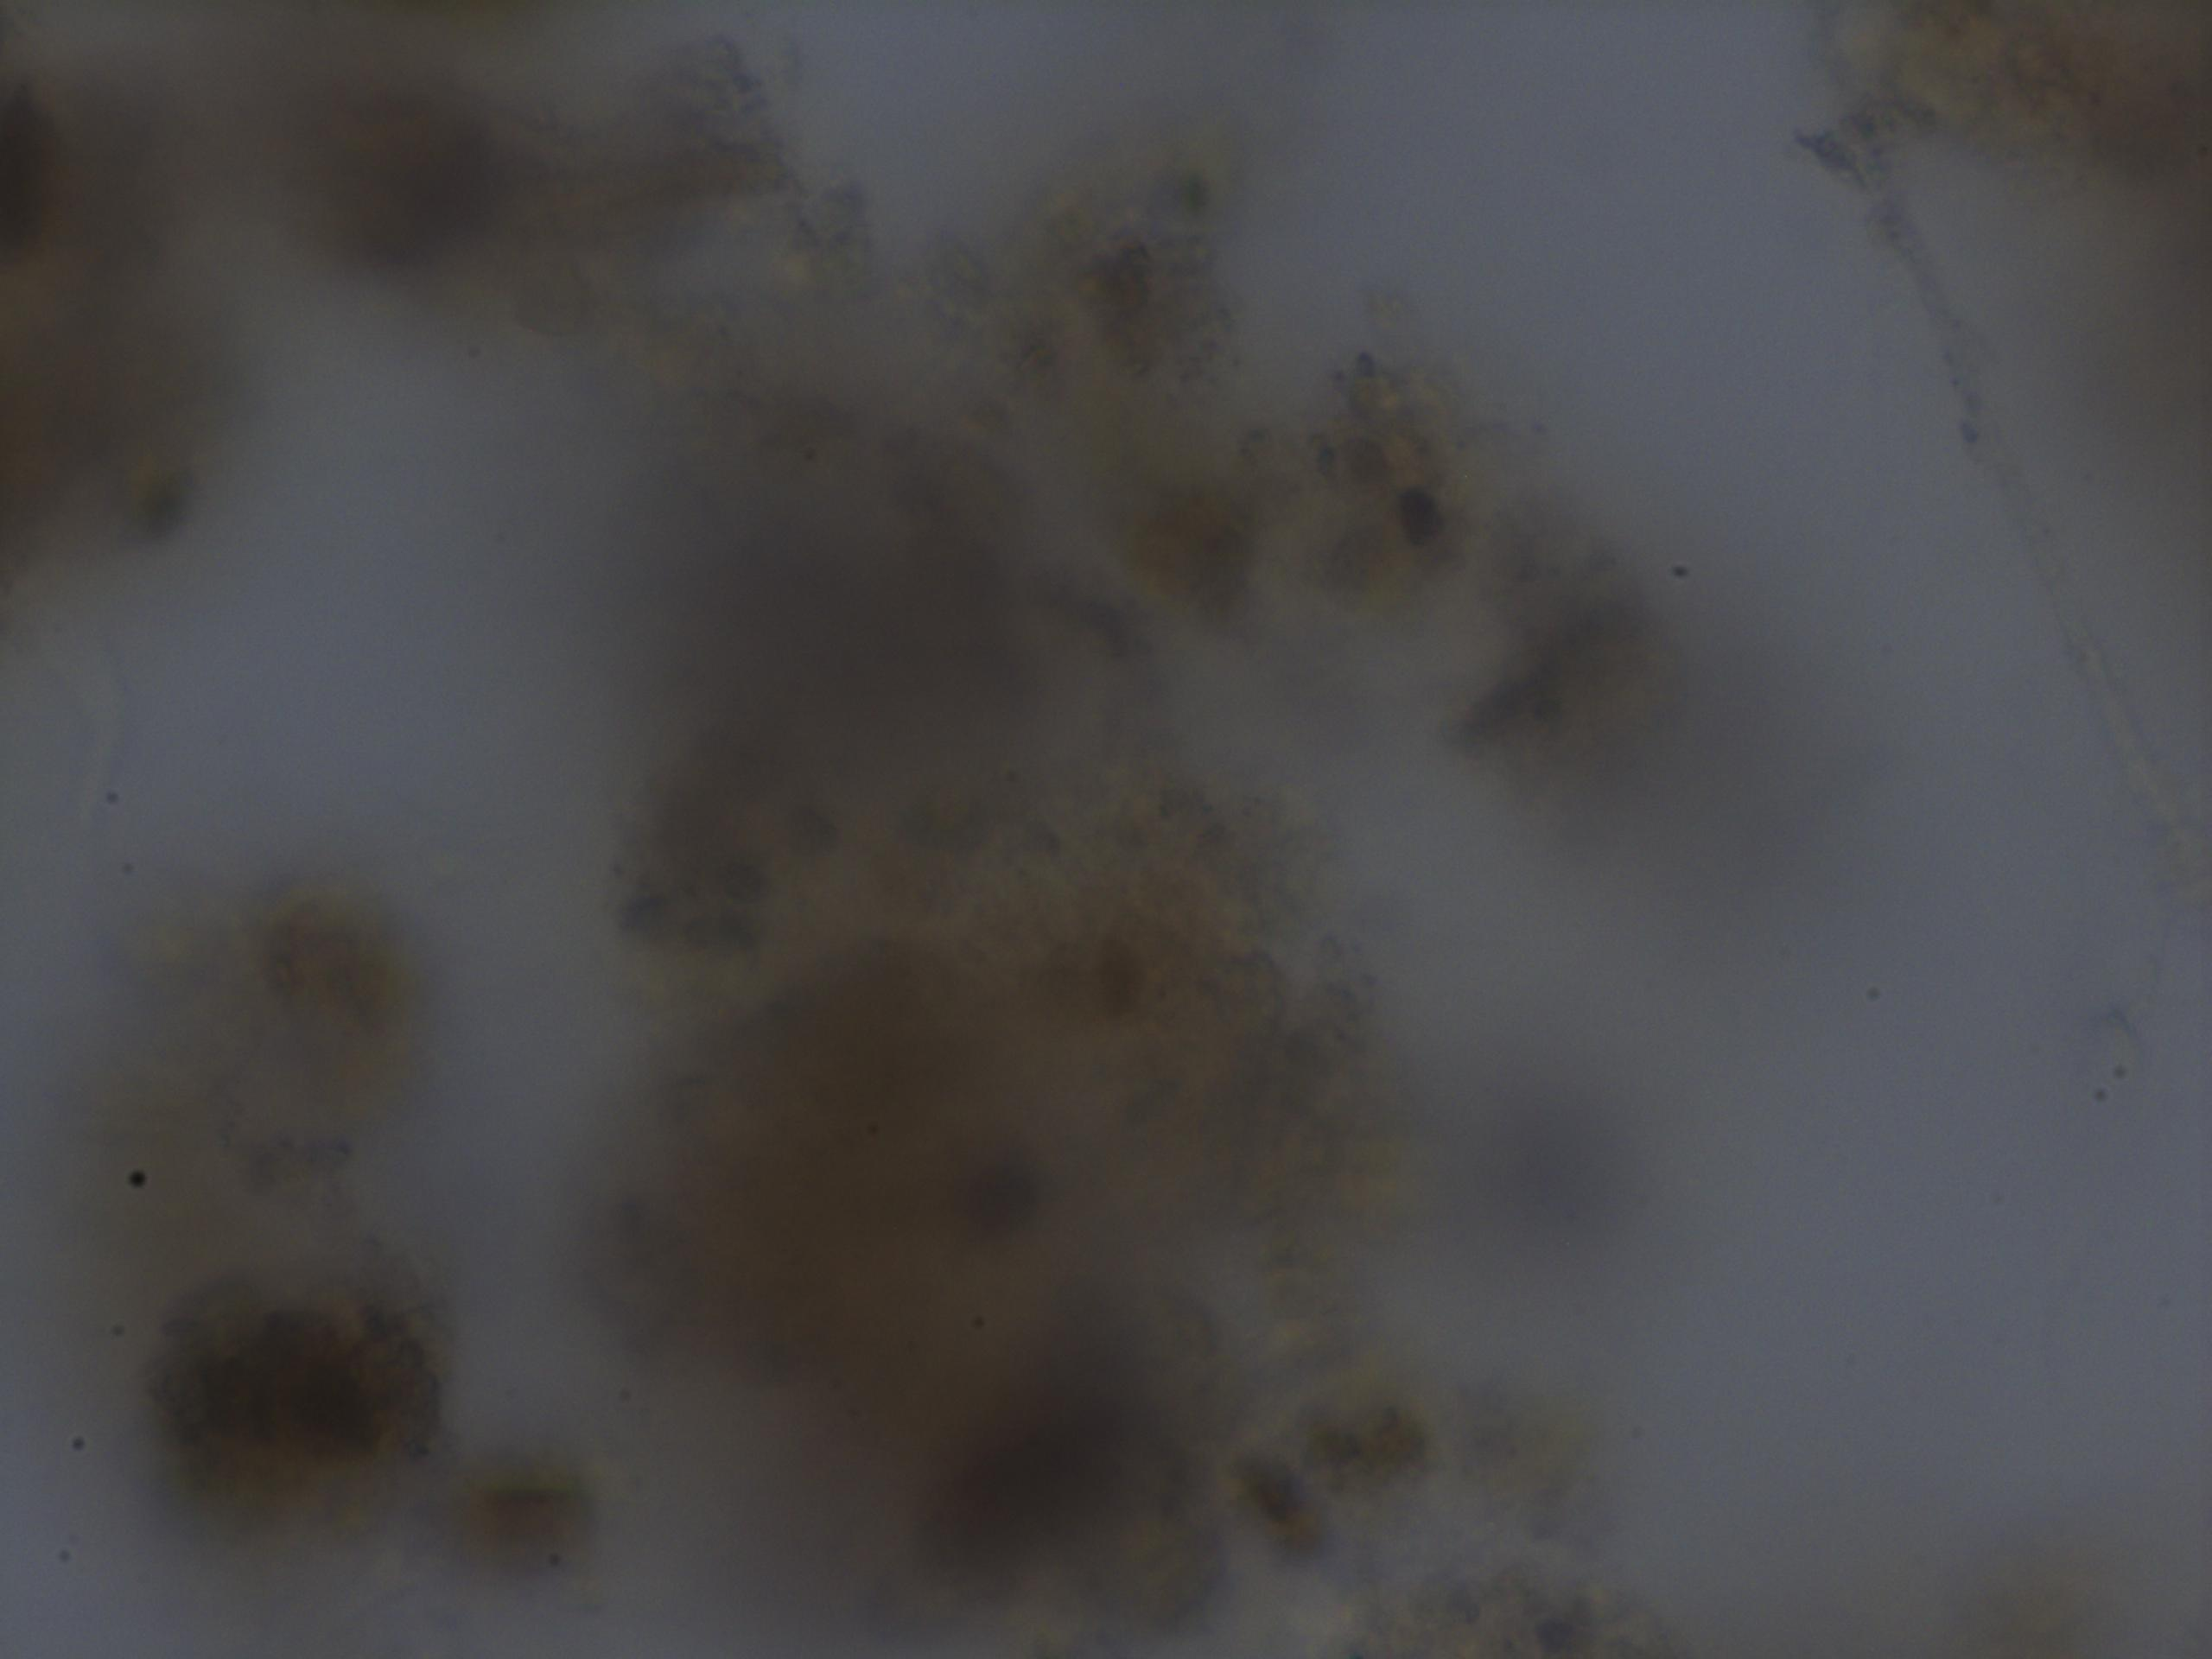filament: (1777, 9, 2212, 951)
